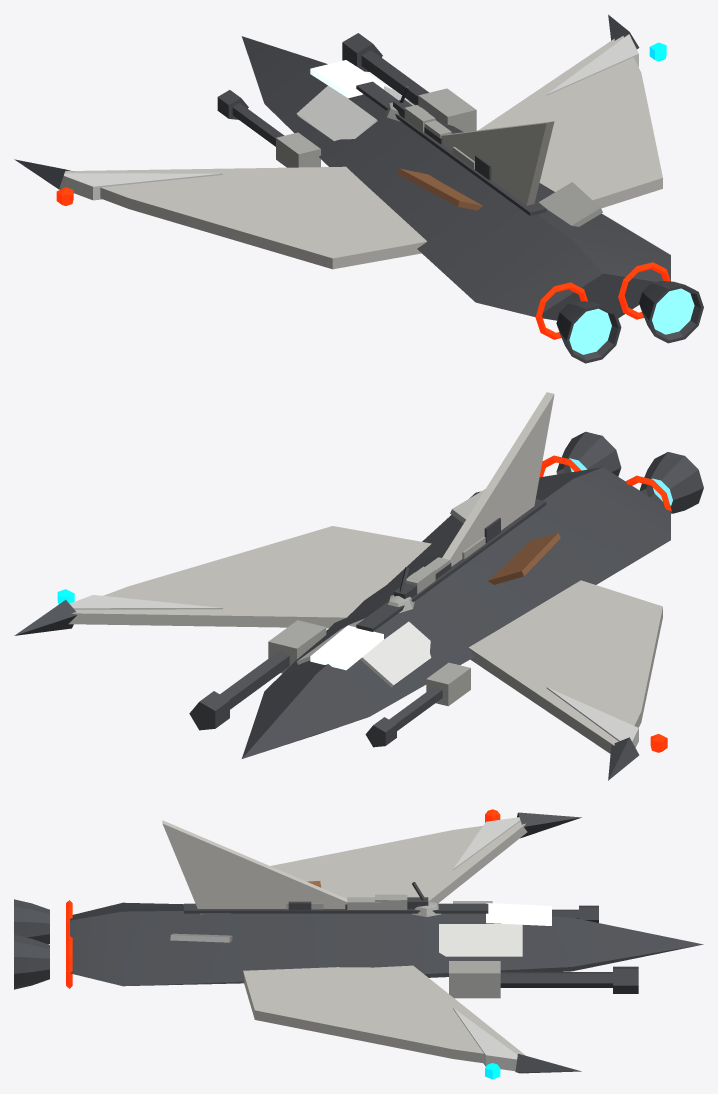
File: corsair.glb
3 renders of one model, top to bottom at view 1: azimuth 30°, elevation 25°; view 2: azimuth 150°, elevation 25°; view 3: azimuth 270°, elevation 25°, orthographic. The views are drawn at different scales.
Visible parts, largest first — view 1: Hull; view 2: Hull; view 3: Hull.
Boxes of the visible parts, bbox=[...] form: Hull: bbox=[14, 14, 703, 363]; Hull: bbox=[14, 392, 703, 780]; Hull: bbox=[14, 809, 703, 1079].
Size of the model in its own units: 1.78 by 0.5436 by 2.
